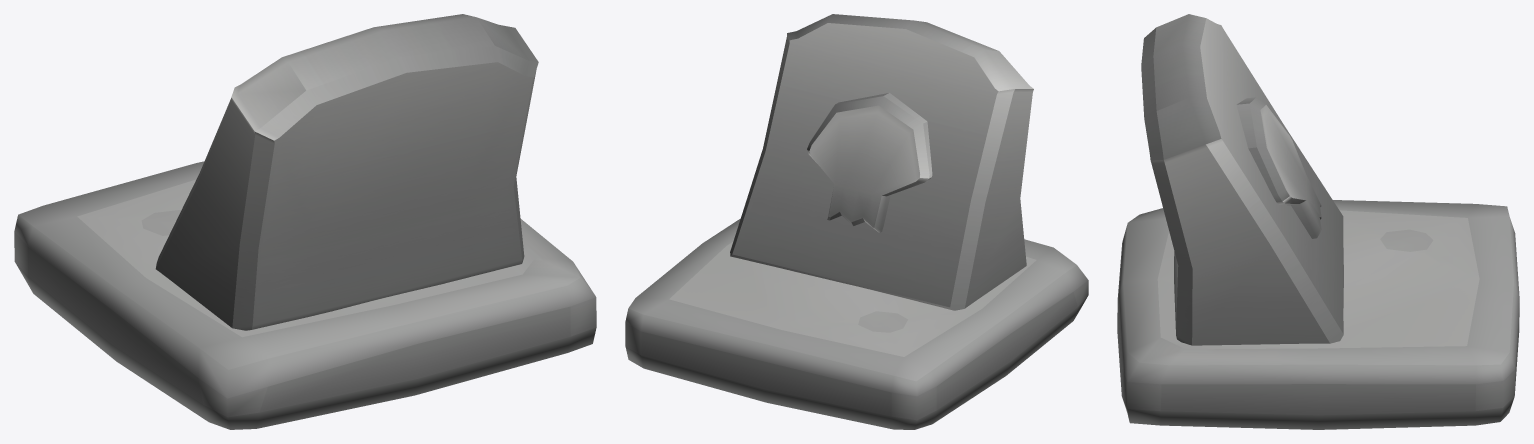
File: Obstacle_Graveyard.fbx
3 views of the same model, side by side, from view 1: azimuth 30°, elevation 25°; view 2: azimuth 150°, elevation 25°; view 3: azimuth 270°, elevation 25° (orthographic). The views are drawn at different scales.
Parts seen in each view (by area): view 1: Obstacle_Graveyard; view 2: Obstacle_Graveyard; view 3: Obstacle_Graveyard.
Boxes of the visible parts, box(x1,y1,x2,y2) form: Obstacle_Graveyard: box(14, 14, 596, 429); Obstacle_Graveyard: box(625, 14, 1088, 429); Obstacle_Graveyard: box(1117, 14, 1519, 429).
Bounding box in the file's own units: 95.14 × 80.92 × 95.23.
1 material, 1 textured.
